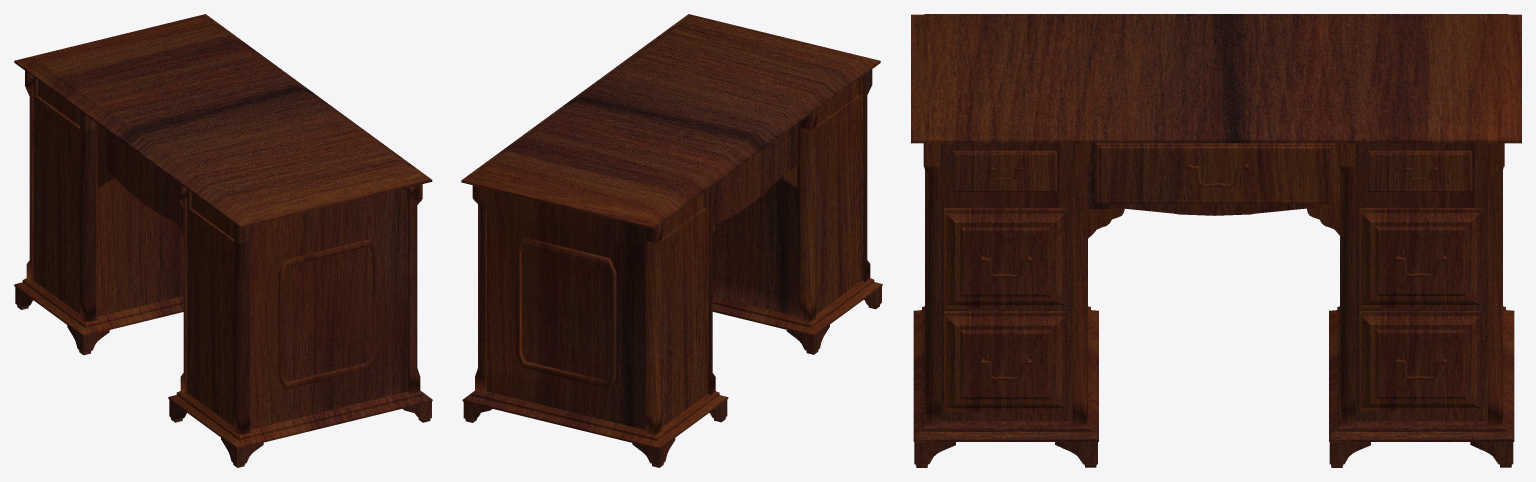
Rendered from MesaJefe.fbx.
3 renders of one model, left to right at view 1: azimuth 30°, elevation 25°; view 2: azimuth 150°, elevation 25°; view 3: azimuth 270°, elevation 25°, orthographic. The views are drawn at different scales.
Visible parts, largest first — view 1: defaultMaterial.009; view 2: defaultMaterial.009; view 3: defaultMaterial.009.
Part boxes in pixels (left/top/right/bottom): defaultMaterial.009: left=14, top=14, right=432, bottom=467; defaultMaterial.009: left=461, top=14, right=882, bottom=467; defaultMaterial.009: left=911, top=14, right=1521, bottom=467.
Size of the model in its own units: 156 by 188 by 310.
Materials: 1 (1 with a texture image).
